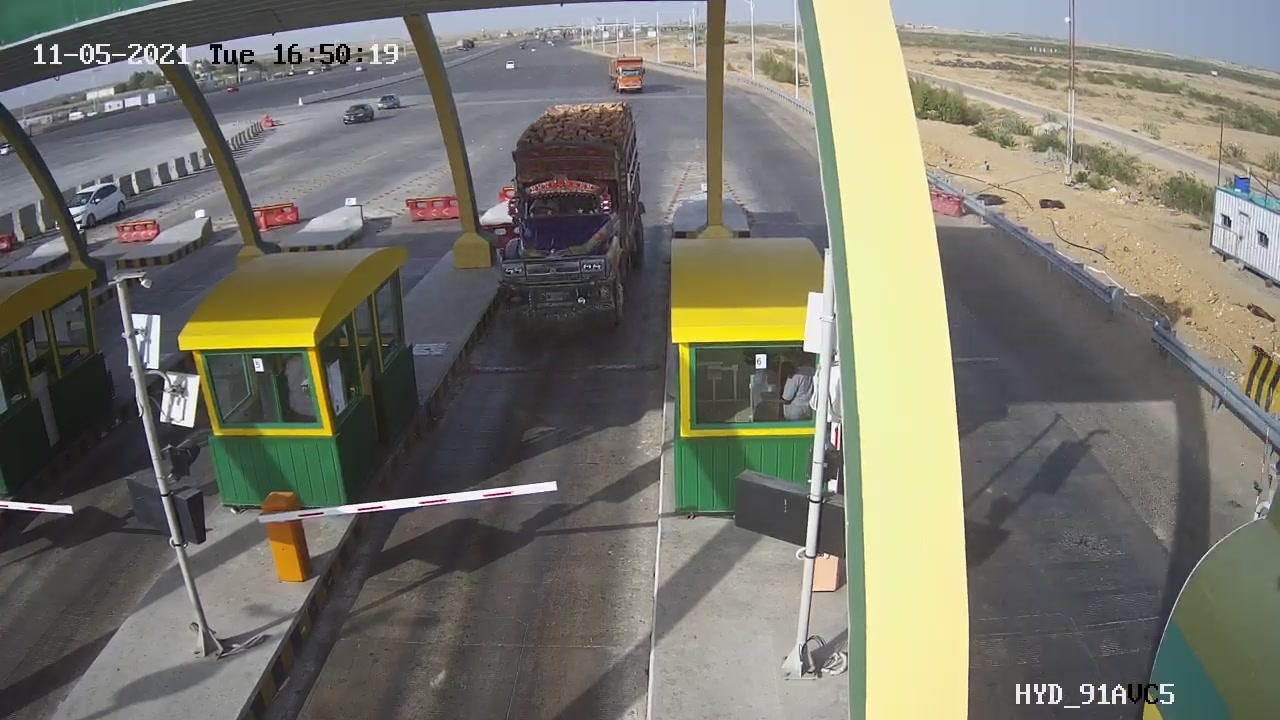F5: (474, 88, 667, 345)
